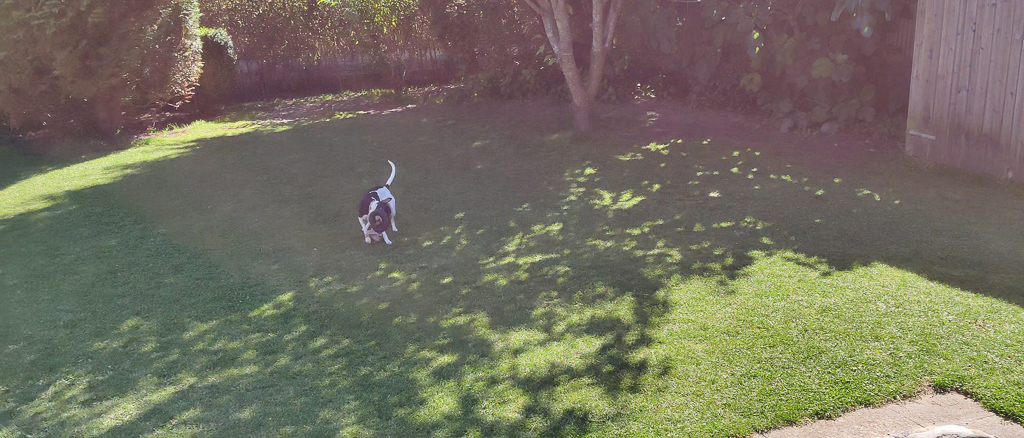Dog: (350, 155, 410, 251)
